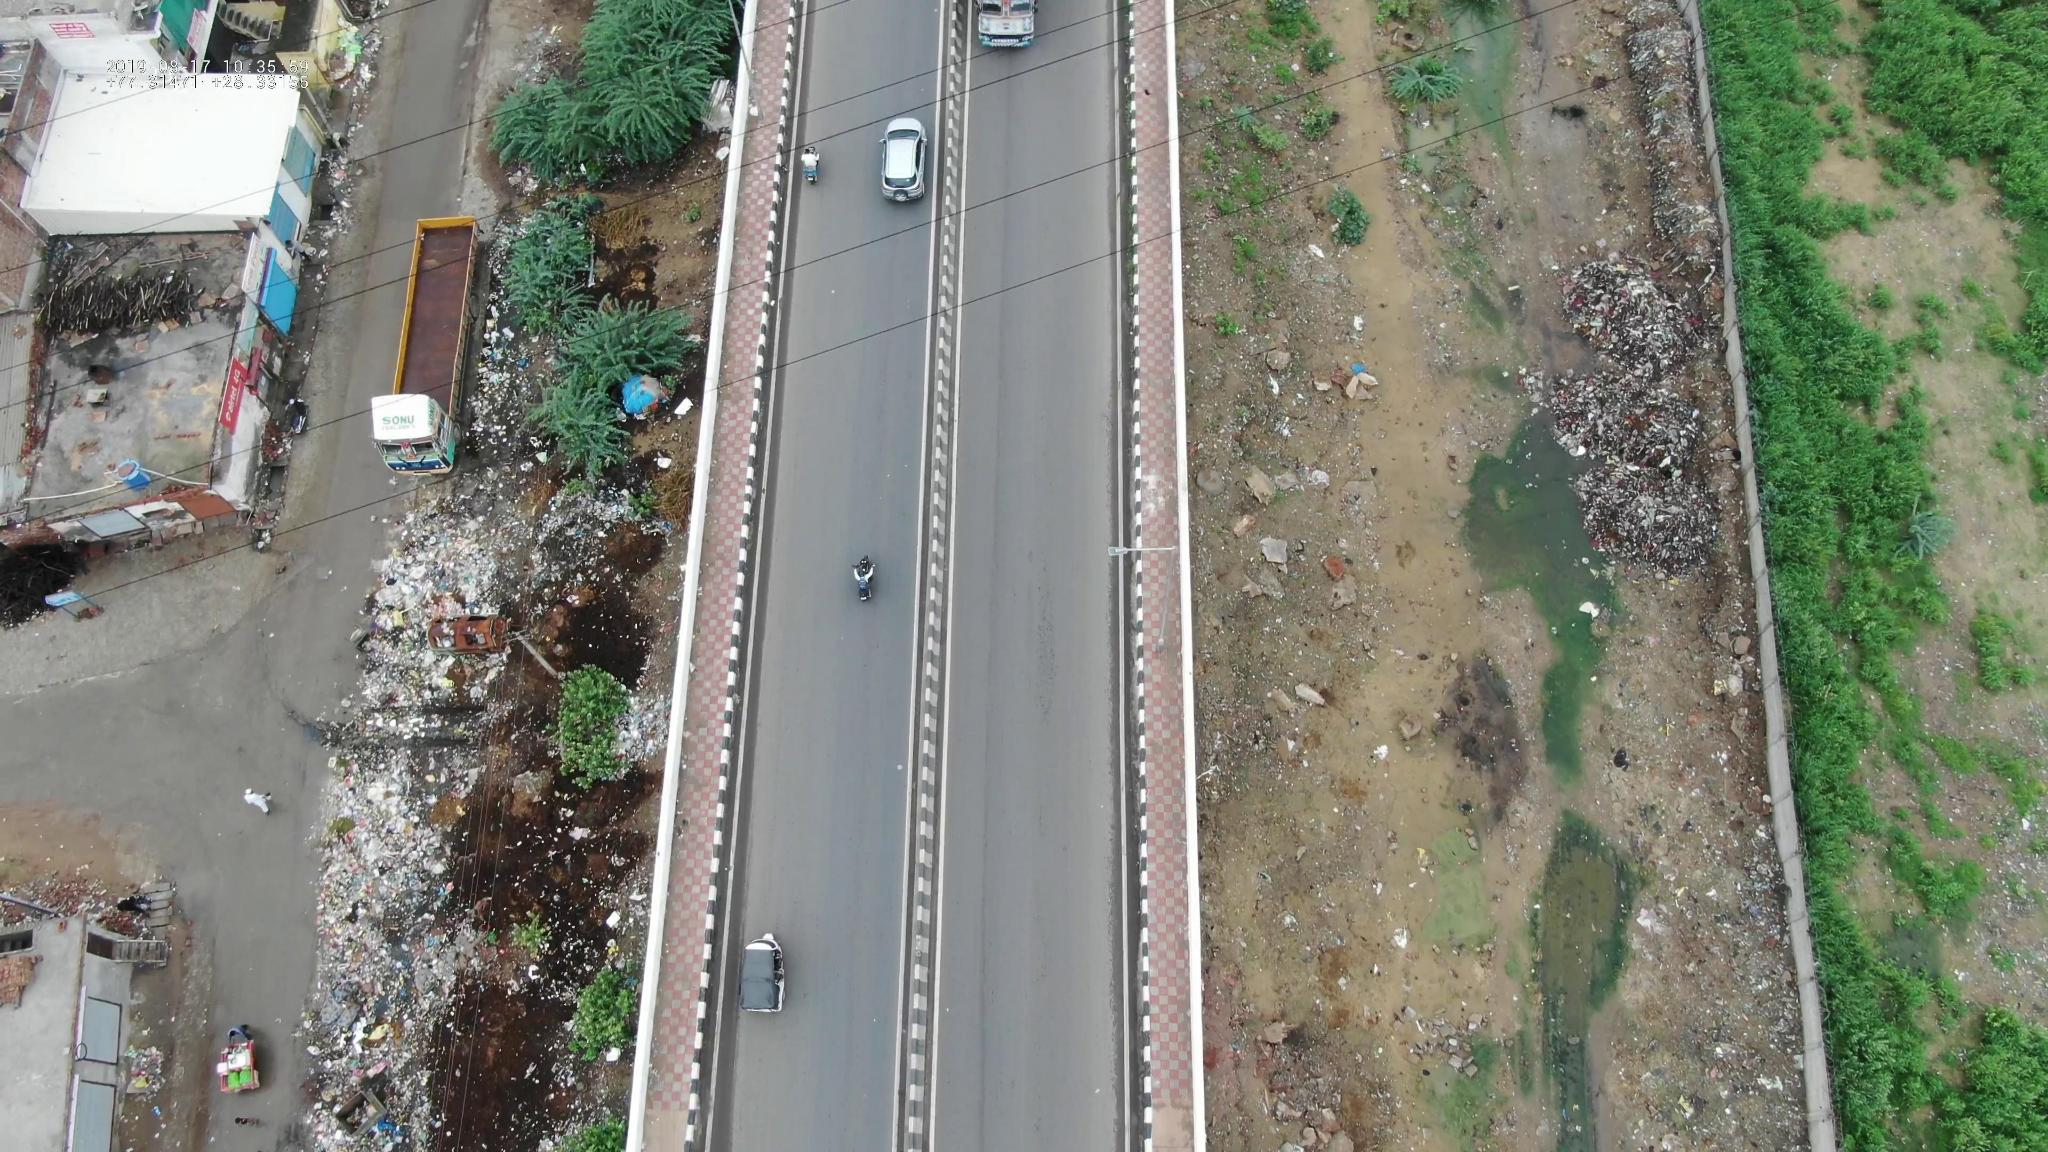Road_side_garbage: (318, 504, 660, 743), (298, 793, 505, 1137), (1563, 263, 1703, 572)
